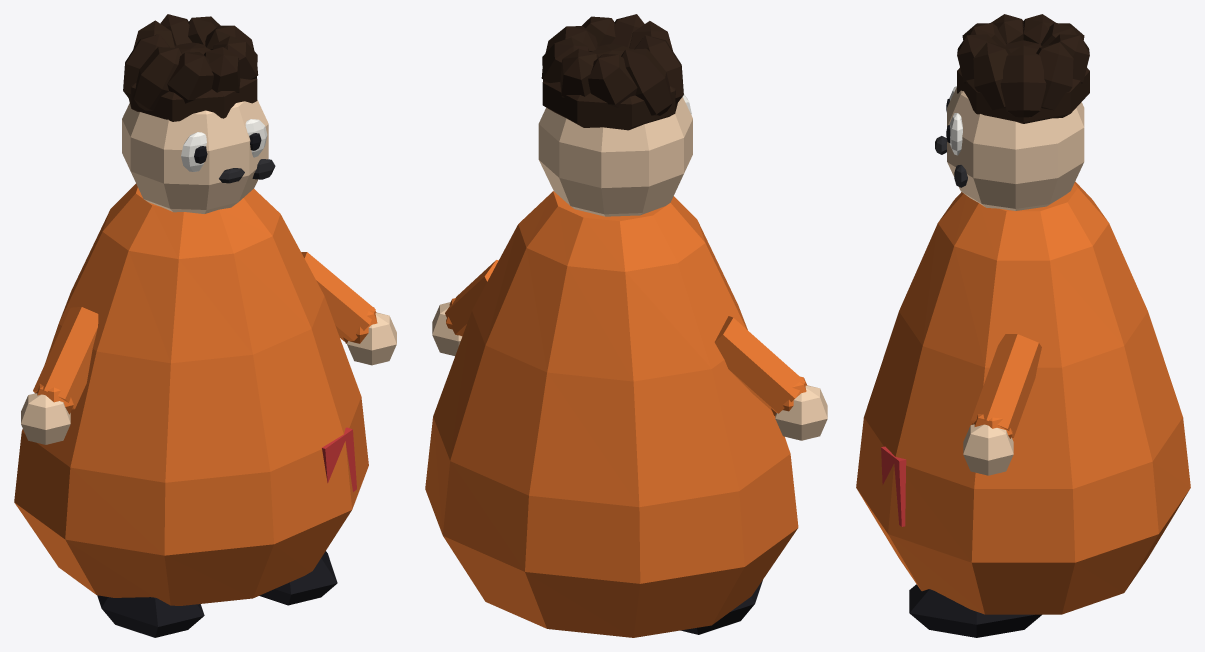
The model's file is npc_grasita.glb.
3 views of the same model, side by side, from view 1: azimuth 30°, elevation 25°; view 2: azimuth 150°, elevation 25°; view 3: azimuth 270°, elevation 25° (orthographic). The views are drawn at different scales.
Visible parts, largest first — view 1: body_grasita_overall, hair_grasita_hair, head_skin_crema, arms_grasita_overall, legs_black, arms_skin_crema, face_white, rag_grasita_rag, face_tuerca_grease; view 2: body_grasita_overall, hair_grasita_hair, head_skin_crema, arms_grasita_overall, arms_skin_crema, legs_black; view 3: body_grasita_overall, hair_grasita_hair, head_skin_crema, arms_grasita_overall, legs_black, arms_skin_crema, rag_grasita_rag, face_white.
Boxes of the visible parts, box(x1,y1,x2,y2) form: body_grasita_overall: box(14, 183, 368, 605); hair_grasita_hair: box(123, 14, 258, 121); head_skin_crema: box(122, 100, 268, 213); arms_grasita_overall: box(33, 252, 377, 414); legs_black: box(97, 551, 337, 637); arms_skin_crema: box(21, 312, 396, 444); face_white: box(181, 119, 267, 171); rag_grasita_rag: box(322, 427, 356, 491); face_tuerca_grease: box(219, 159, 275, 183); body_grasita_overall: box(425, 191, 798, 637); hair_grasita_hair: box(541, 14, 683, 130); head_skin_crema: box(538, 97, 692, 216); arms_grasita_overall: box(445, 260, 807, 415); arms_skin_crema: box(432, 302, 827, 440); legs_black: box(680, 580, 762, 634); body_grasita_overall: box(856, 181, 1190, 614); hair_grasita_hair: box(957, 14, 1089, 123); head_skin_crema: box(947, 87, 1084, 210); arms_grasita_overall: box(971, 334, 1041, 438); legs_black: box(909, 584, 1041, 637); arms_skin_crema: box(963, 424, 1013, 475); rag_grasita_rag: box(881, 446, 906, 526); face_white: box(949, 86, 962, 155).
Size of the model in its own units: 1.13 by 1.6 by 0.86.
